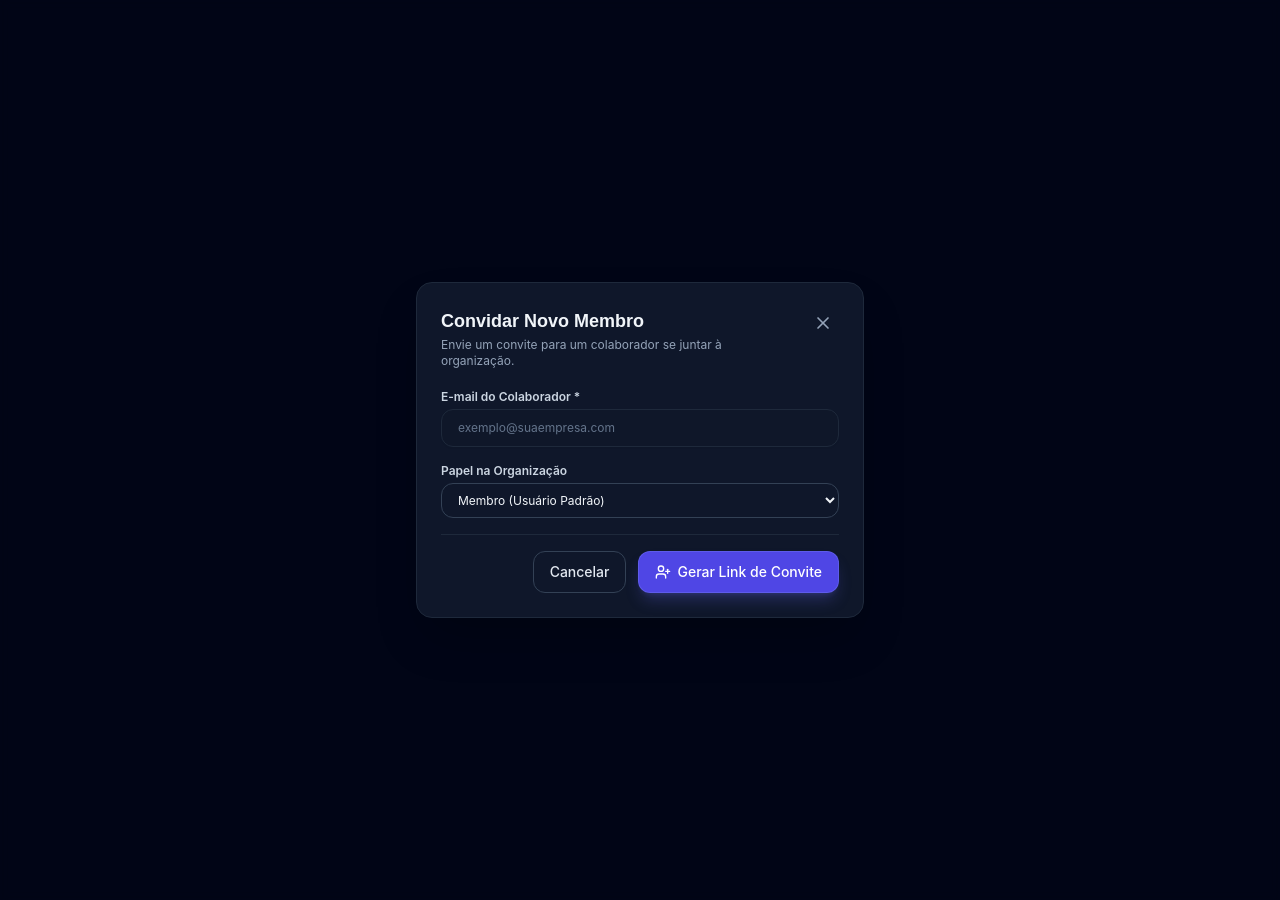
Test: Account & Signature Modals UI Coverage › InviteMemberModal › displays error message on submission failure
Type "err@empresa.com" into the field with placeholder "exemplo@suaempresa.com" at (640, 428), box [441,409,839,447]
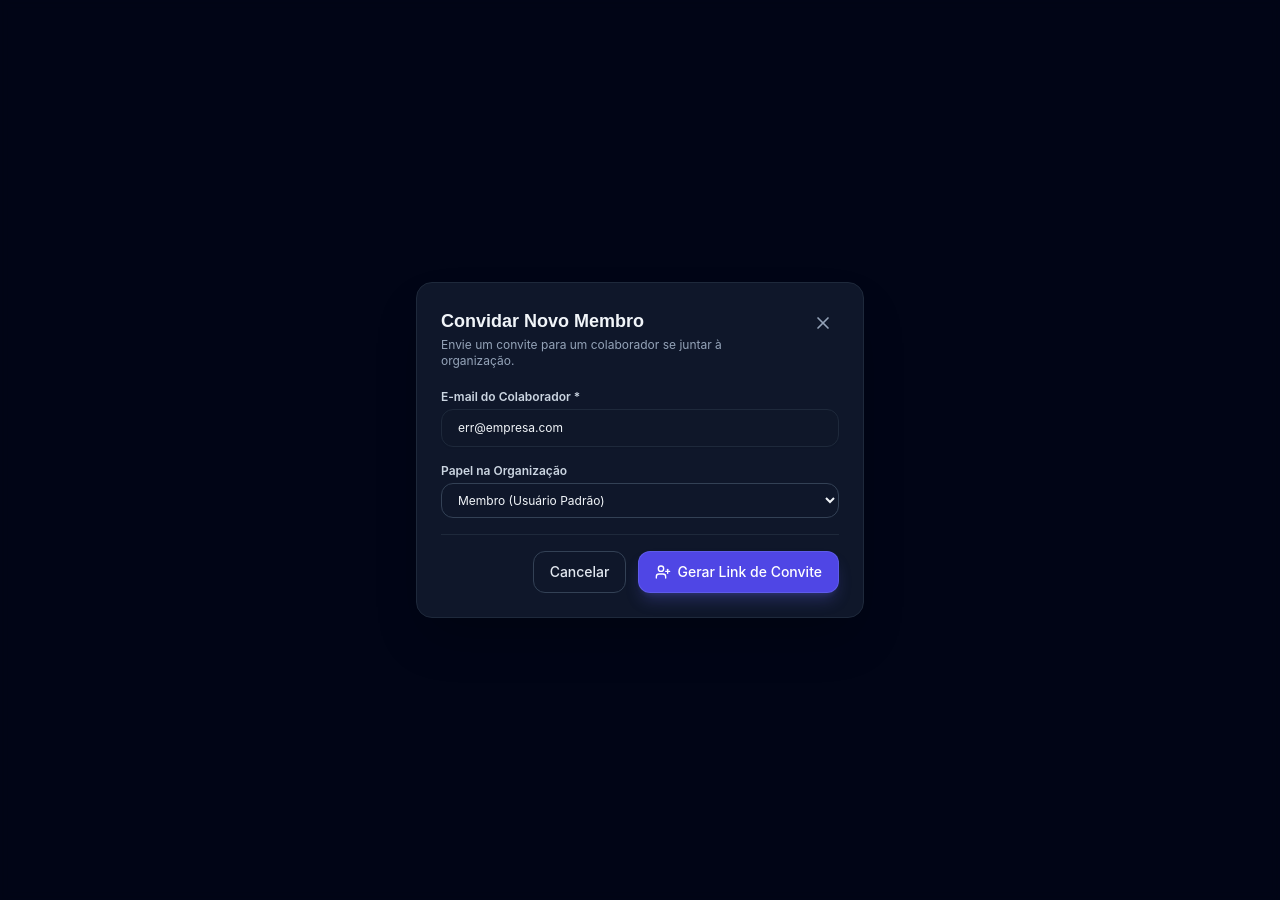
Click the button "Gerar Link de Convite" at (739, 572), box [638,551,839,593]
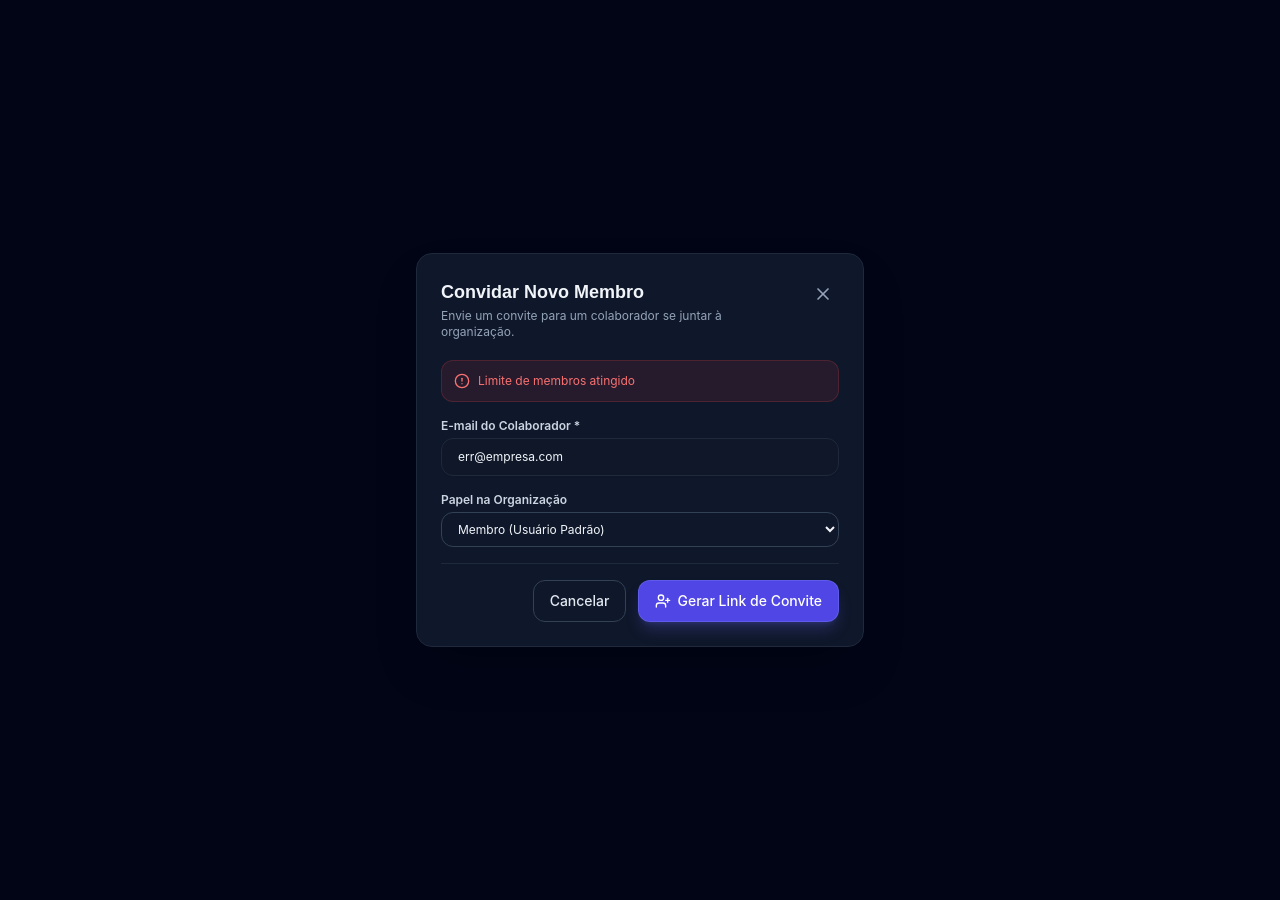
Expected: the text "Limite de membros atingido" is shown, [478,373,635,389]
